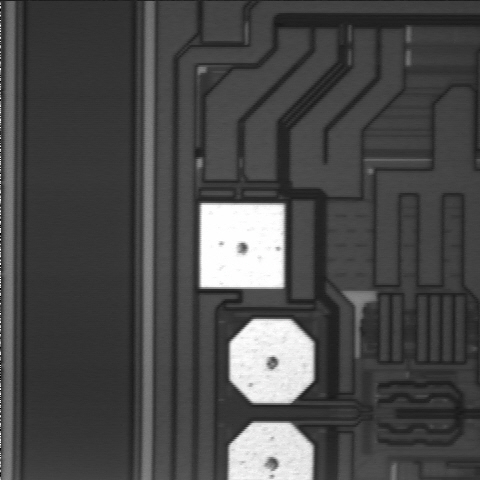pad: (200, 203, 284, 289), (230, 319, 314, 403)
